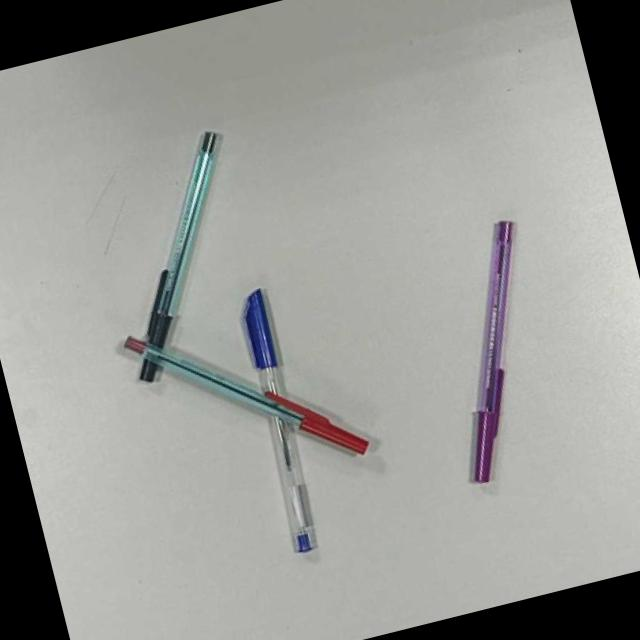caneta: (122, 327, 372, 460), (237, 287, 319, 554), (135, 128, 219, 383), (474, 220, 518, 484)
